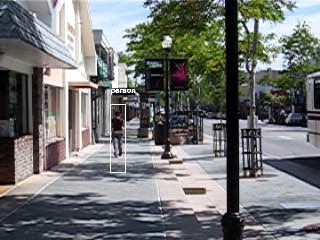person: (110, 108, 125, 159), (109, 108, 124, 159), (111, 108, 126, 159), (110, 107, 125, 158), (110, 109, 125, 160)
target_negative: (176, 65, 284, 148), (133, 11, 203, 104), (222, 77, 304, 145), (166, 146, 223, 172), (245, 132, 276, 150)
